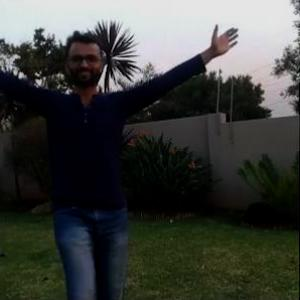takeoff: (1, 32, 208, 299)
